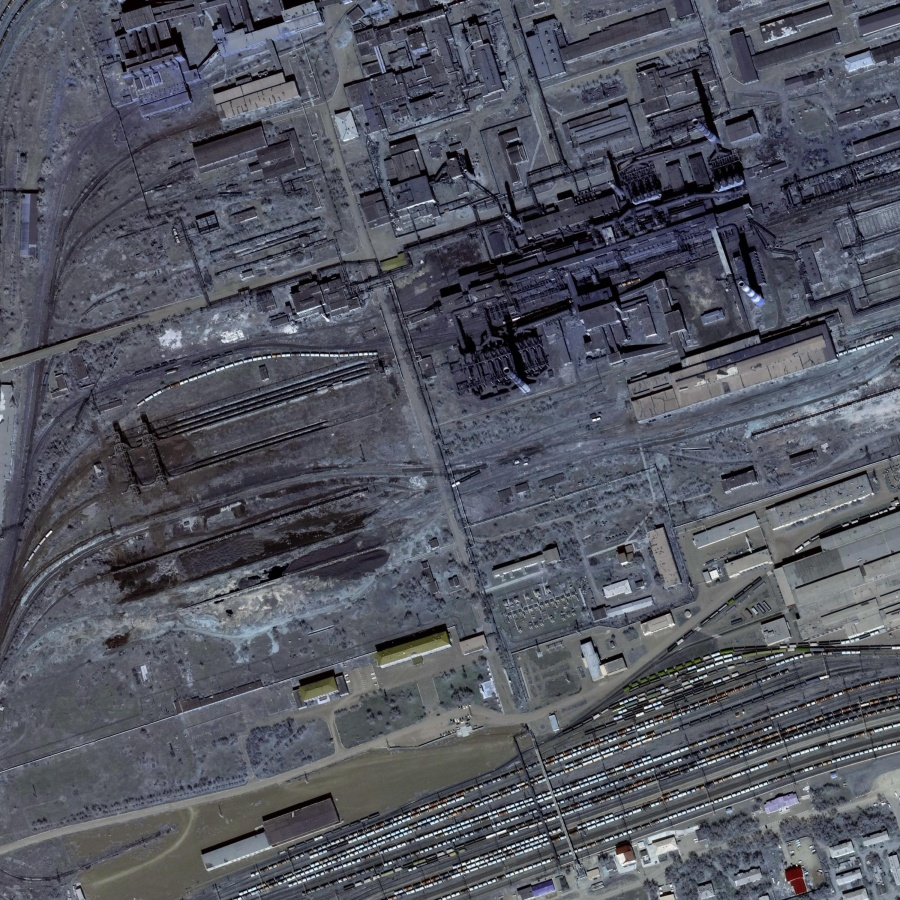PowerPlant: (433, 106, 785, 400)
